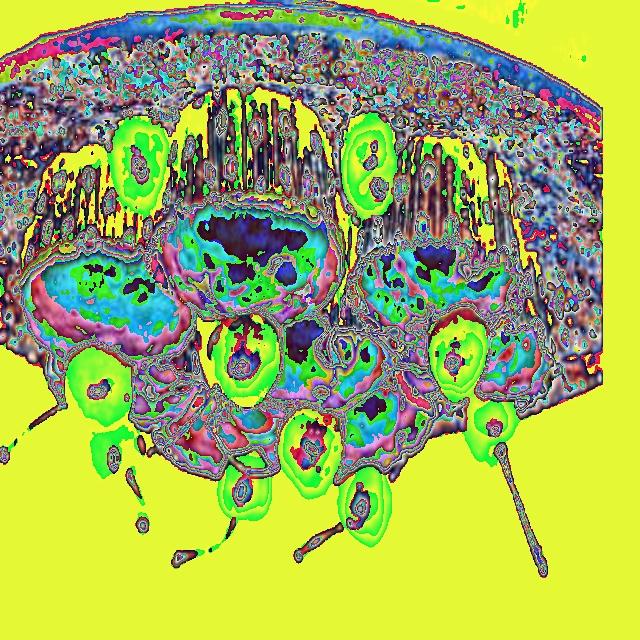background: (0, 85, 559, 576)
